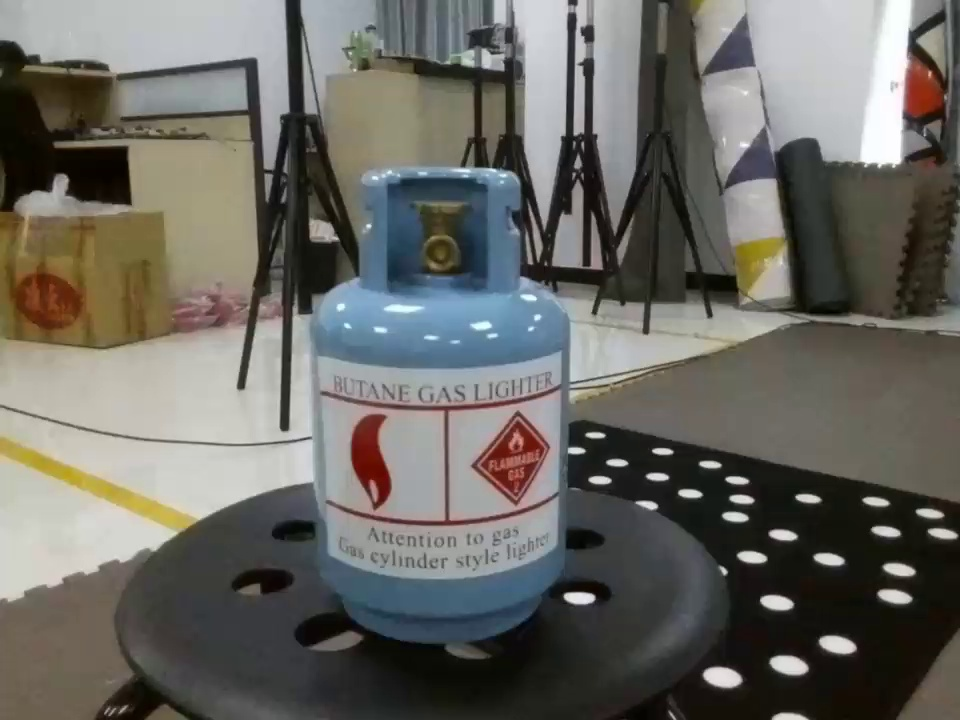gas tank: (308, 164, 596, 651)
